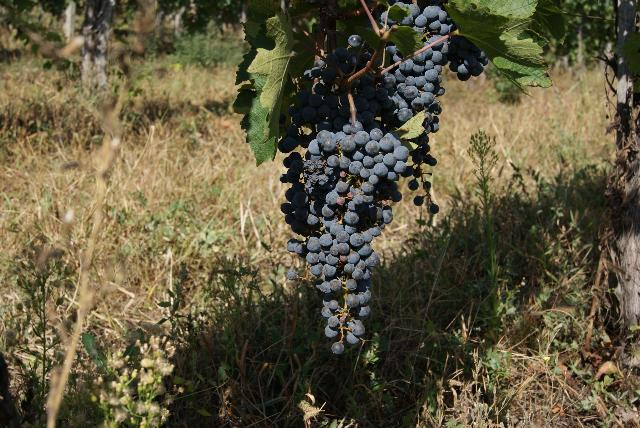grapes: (288, 115, 412, 355)
